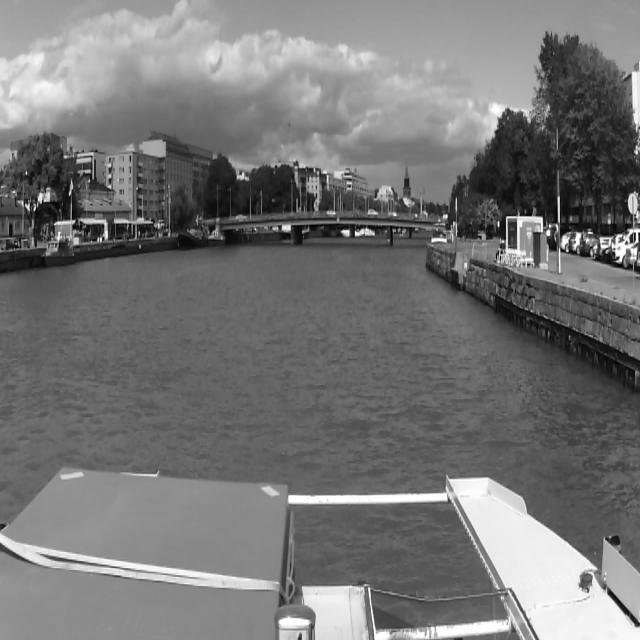ship: (40, 235, 76, 270), (174, 215, 206, 252), (207, 228, 227, 246)
